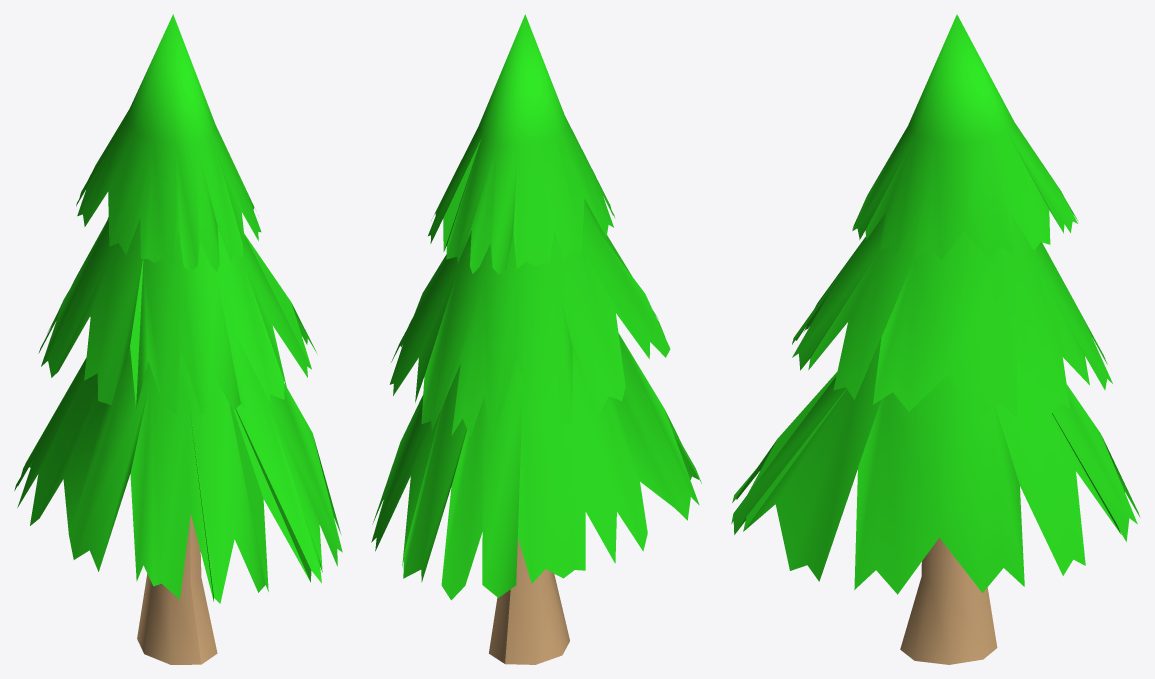
File: tree.fbx
The picture shows the model from 3 angles, left to right: view 1: azimuth 30°, elevation 25°; view 2: azimuth 150°, elevation 25°; view 3: azimuth 270°, elevation 25°; orthographic projection.
Visible parts, largest first — view 1: tree; view 2: tree; view 3: tree.
Part boxes in pixels (left/top/right/bottom): tree: left=14, top=14, right=342, bottom=664; tree: left=371, top=14, right=701, bottom=664; tree: left=731, top=14, right=1140, bottom=664.
Bounding box in the file's own units: 195 × 460 × 269.
